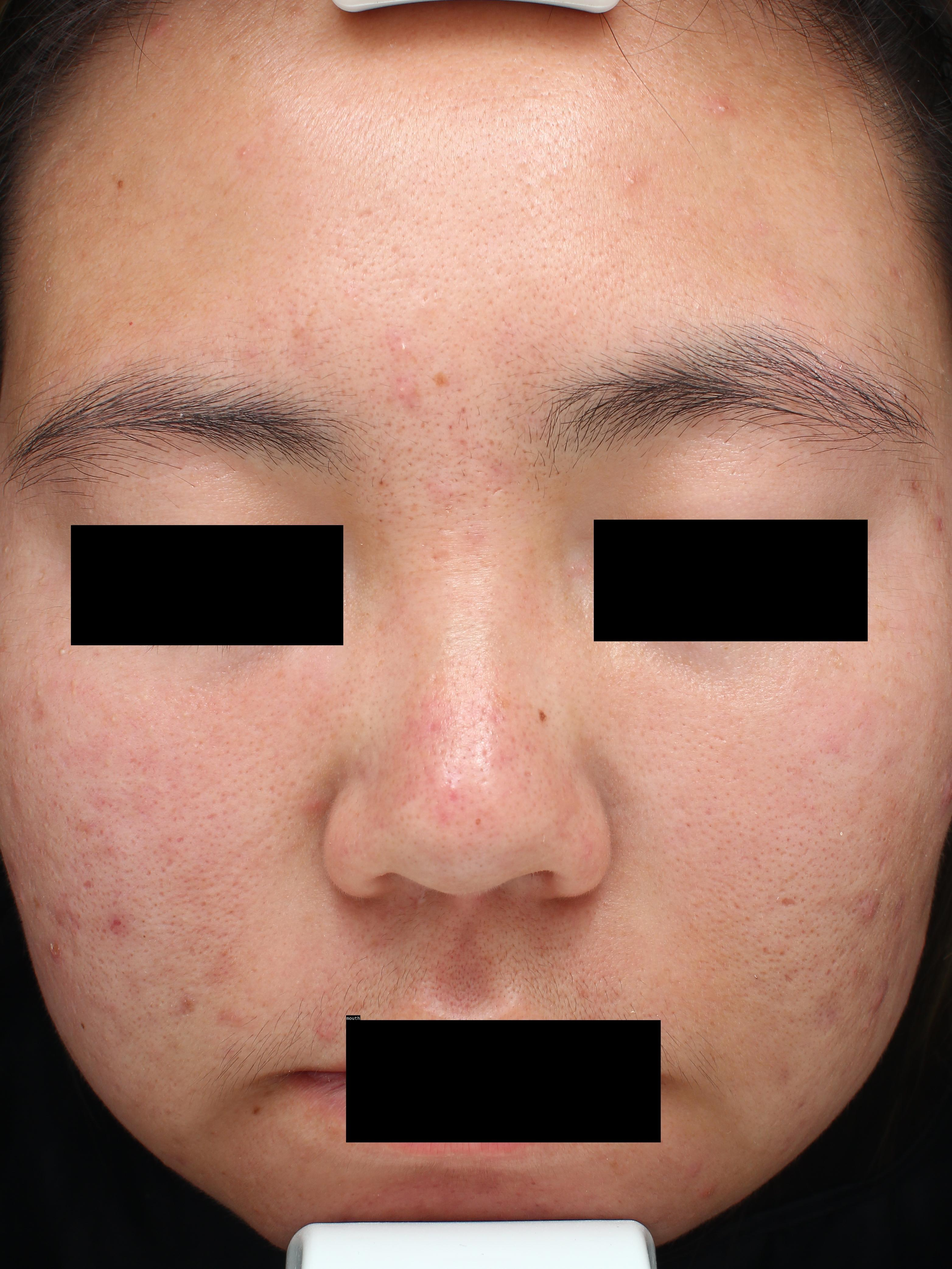atrophic_scar: (307, 221, 327, 239), (430, 549, 451, 565), (303, 307, 318, 326), (353, 209, 374, 221), (785, 765, 802, 778), (846, 831, 861, 845), (877, 856, 885, 875), (713, 734, 728, 744), (81, 878, 92, 891), (429, 720, 440, 733), (82, 863, 95, 874), (837, 946, 847, 960), (420, 290, 430, 304), (429, 672, 439, 686), (782, 898, 797, 907), (164, 856, 176, 867), (492, 486, 504, 497), (187, 944, 197, 957), (206, 812, 219, 821), (761, 946, 772, 956), (856, 720, 867, 730), (128, 757, 138, 766), (784, 974, 793, 983), (522, 770, 533, 777), (482, 747, 489, 758), (112, 919, 121, 926), (884, 826, 891, 835), (83, 826, 89, 835), (377, 240, 384, 247), (826, 967, 832, 975), (798, 919, 805, 925), (176, 837, 184, 842), (34, 743, 39, 750), (100, 830, 105, 836), (883, 837, 887, 842)
closed_comedo: (560, 163, 570, 173), (240, 148, 249, 156), (611, 74, 619, 83), (54, 209, 63, 217), (571, 310, 579, 318), (25, 756, 32, 765), (521, 159, 527, 166), (111, 149, 116, 155), (426, 95, 430, 101), (919, 649, 923, 654)
nevus: (538, 708, 548, 725), (251, 1105, 262, 1117), (117, 180, 124, 189), (80, 1022, 86, 1030), (904, 393, 908, 401)
open_comedo: (140, 933, 148, 940), (326, 1125, 332, 1131)
other: (143, 725, 157, 741), (138, 692, 150, 702), (69, 678, 78, 688), (57, 648, 66, 656), (67, 607, 75, 616), (35, 690, 43, 699), (70, 688, 78, 697), (181, 711, 190, 719), (110, 716, 118, 723), (122, 696, 131, 702), (36, 681, 42, 688), (838, 662, 845, 668), (31, 676, 37, 682), (68, 650, 73, 656), (119, 645, 124, 651), (829, 648, 835, 653), (36, 670, 40, 675), (25, 648, 29, 653)
papule: (862, 894, 882, 921), (870, 985, 887, 1016), (46, 942, 62, 960), (700, 1185, 716, 1199), (689, 1161, 702, 1175), (152, 22, 166, 34), (308, 798, 320, 811), (317, 1025, 330, 1037), (945, 783, 952, 804), (460, 439, 471, 449), (11, 779, 17, 788)
pustule: (713, 99, 730, 114), (397, 342, 409, 352), (627, 177, 636, 187)
